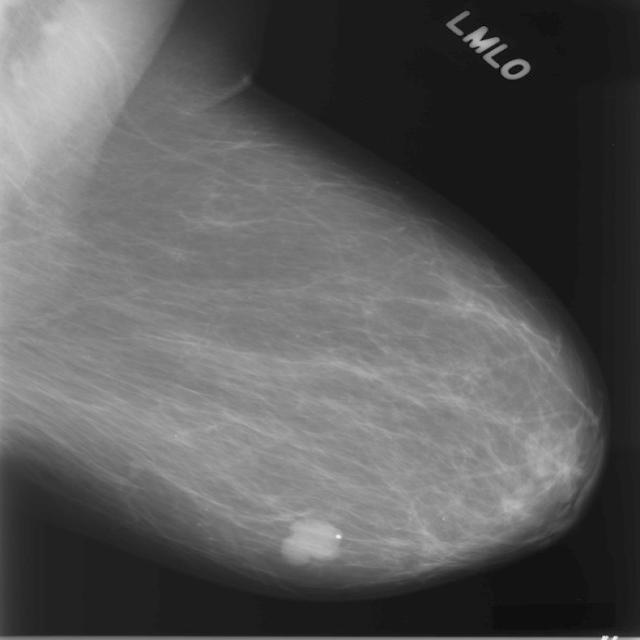tumour: (280, 517, 342, 567)
